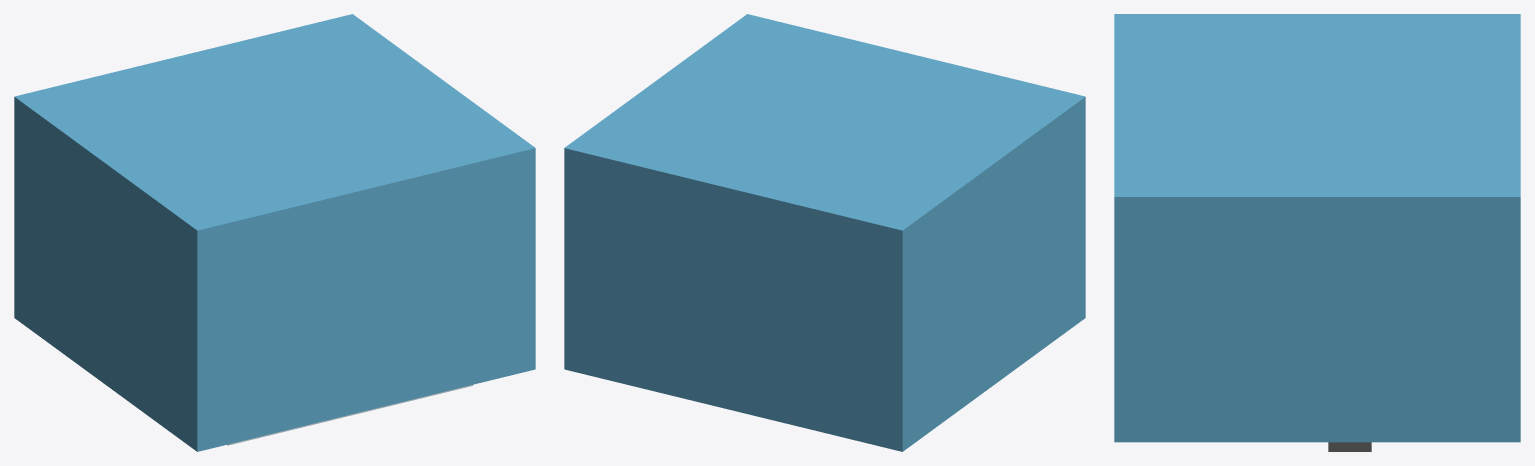
File: city_newspaper_box.glb
3 views of the same model, side by side, from view 1: azimuth 30°, elevation 25°; view 2: azimuth 150°, elevation 25°; view 3: azimuth 270°, elevation 25° (orthographic). The views are drawn at different scales.
Parts seen in each view (by area): view 1: box_body; view 2: box_body; view 3: box_body, coin_slot.
Part boxes in pixels (x1,y1,x2,y2): box_body: (14, 14, 535, 451); box_body: (564, 14, 1085, 451); box_body: (1114, 14, 1520, 442); coin_slot: (1328, 442, 1371, 451).
Bounding box in the file's own units: 0.8 × 0.5475 × 0.75.
